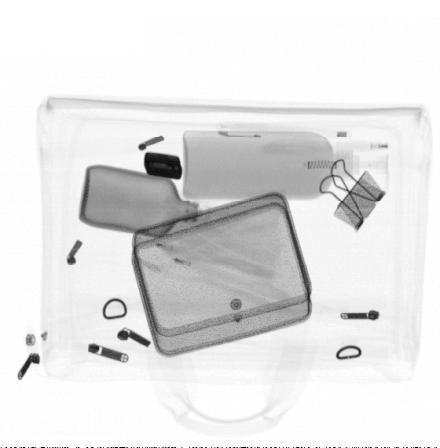Lighter: (143, 152, 183, 180)
